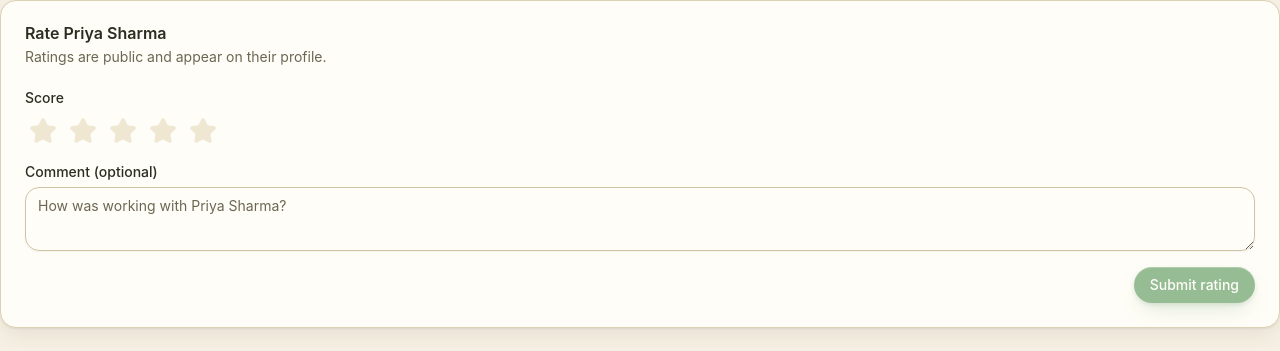
RatingForm (component, spec §4) › enables submit after picking a score
The image size is (1280, 351).
Click the radio button named "4 stars" at (163, 131), box [145,113,181,149]
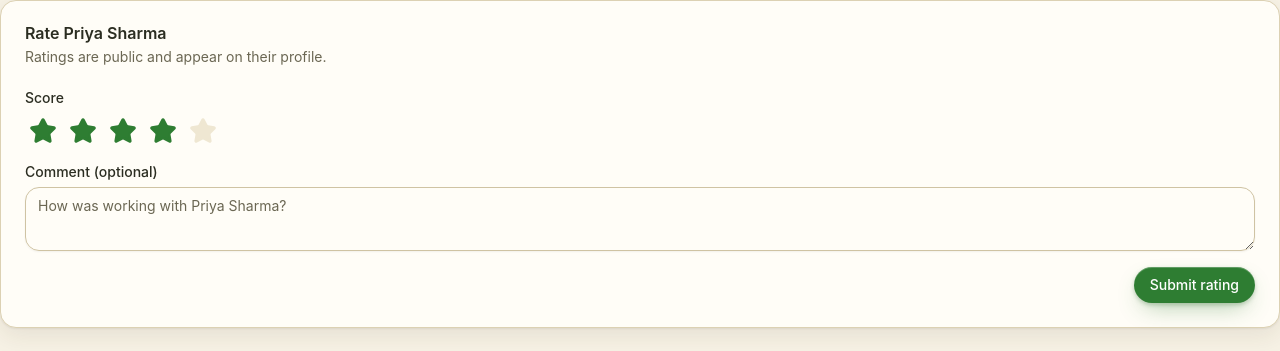
Expected: the button "Submit rating" is enabled, [1134,267,1255,303]
